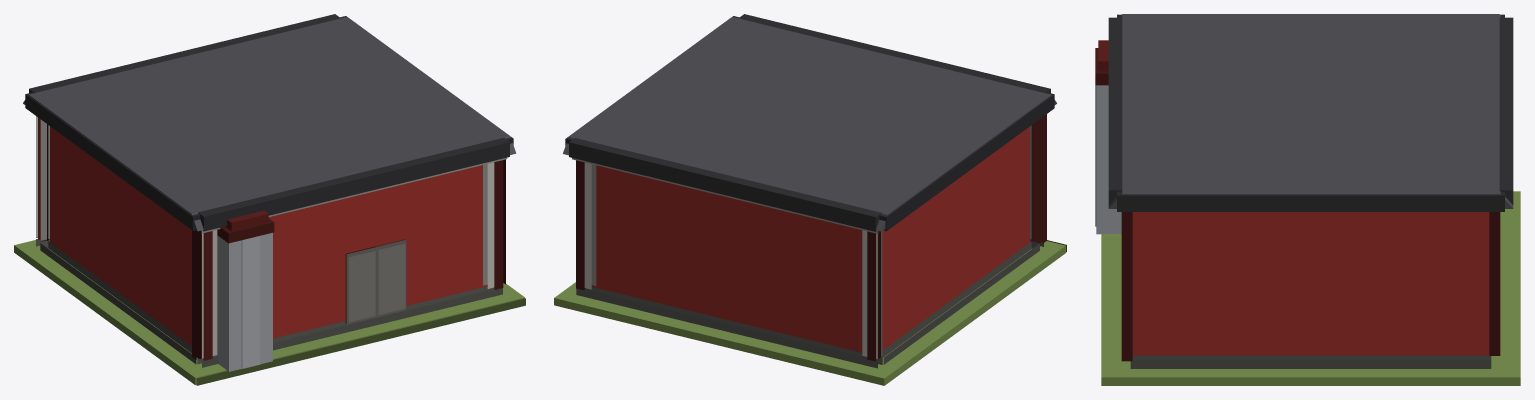
File: SandChickSil.fbx
3 renders of one model, left to right at view 1: azimuth 30°, elevation 25°; view 2: azimuth 150°, elevation 25°; view 3: azimuth 270°, elevation 25°, orthographic. The views are drawn at different scales.
Parts seen in each view (by area): view 1: FM_S_All; view 2: FM_S_All; view 3: FM_S_All.
Boxes of the visible parts, x1=… form: FM_S_All: x1=14, y1=14, x2=525, y2=385; FM_S_All: x1=554, y1=14, x2=1066, y2=385; FM_S_All: x1=1095, y1=14, x2=1520, y2=385.
Bounding box in the file's own units: 42.04 × 19.9 × 40.62.
